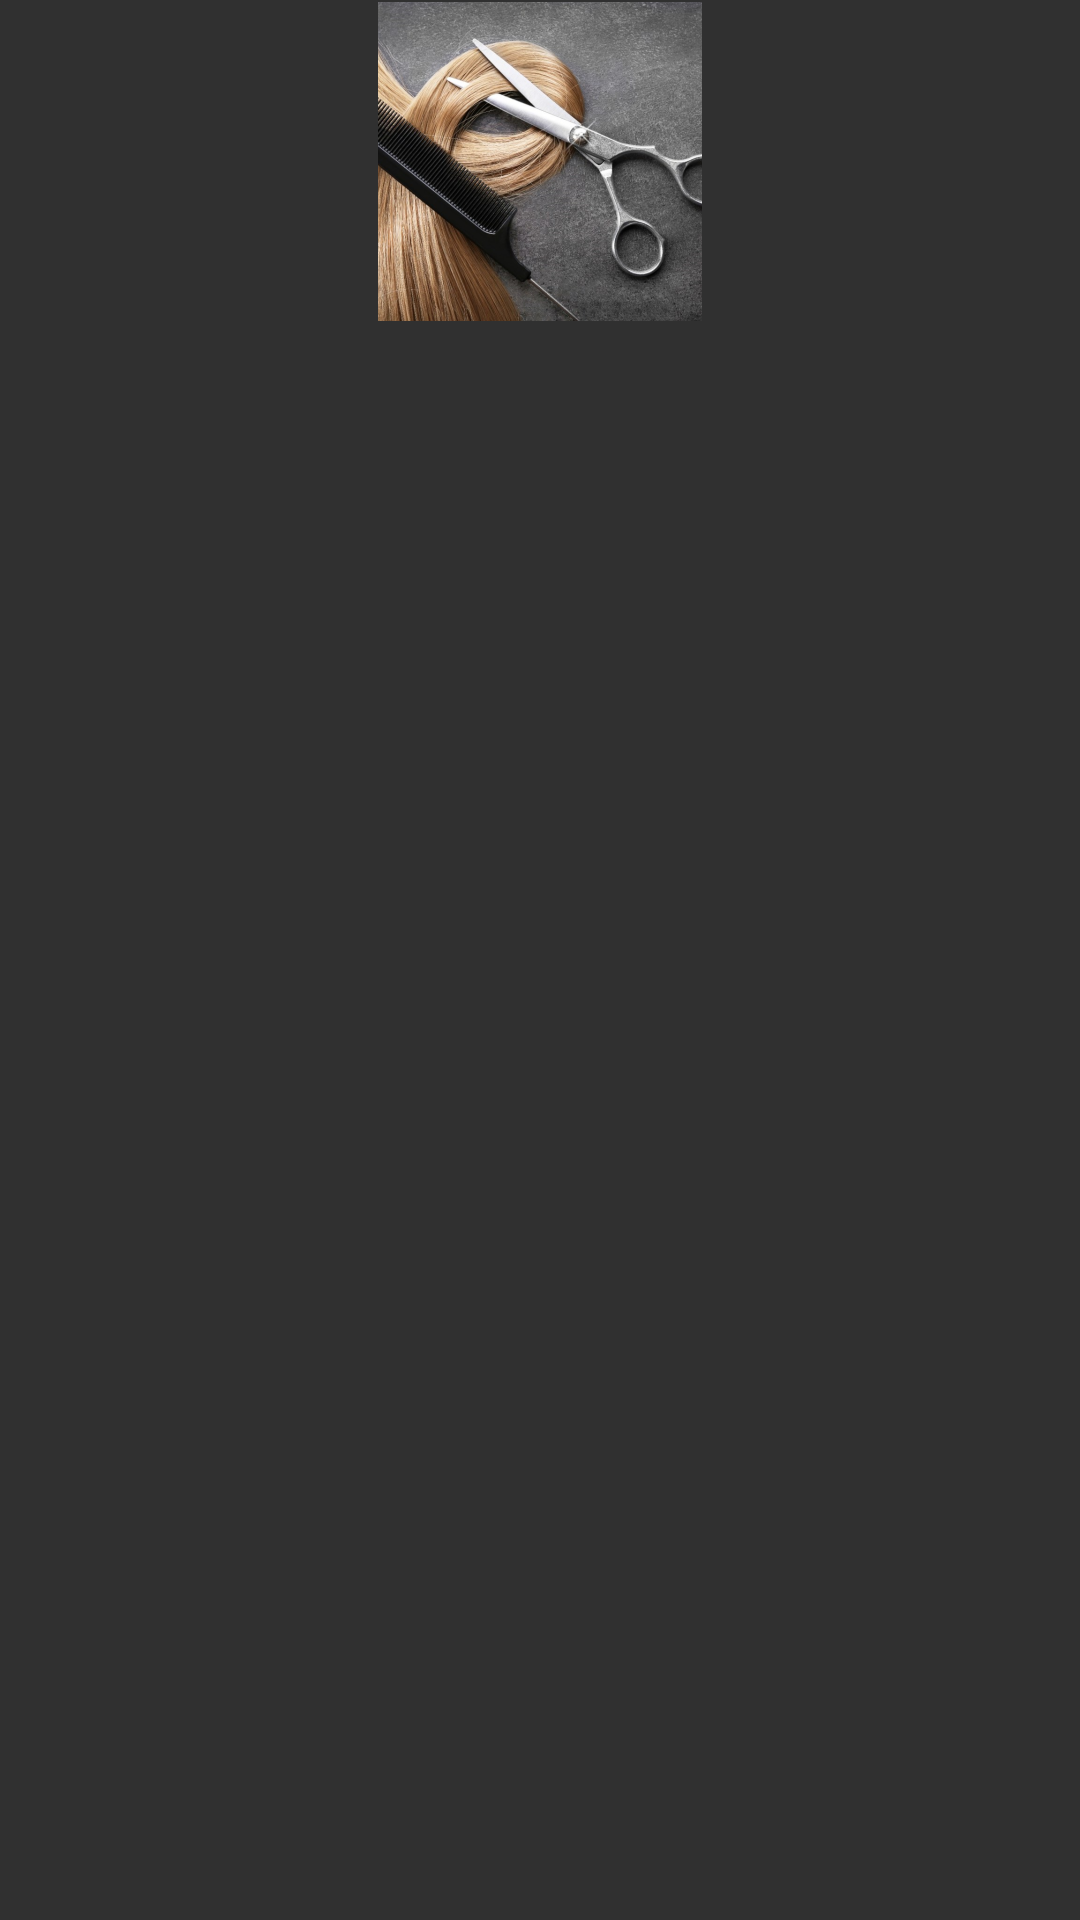

Screen size 1080x1920. Icon name, then its center in pixels as [x,y]:
login photo: [540,161]
